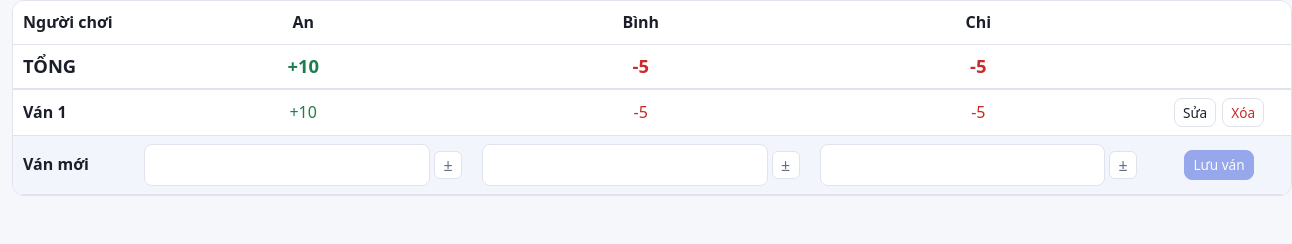
Test case: ScoreTable new round row › shows the error when saving fails and keeps what was typed
The width and height of the screenshot is (1292, 244).
Type "10" into the field named "Ván mới, điểm An" at [287, 165], box [144,144,430,186]
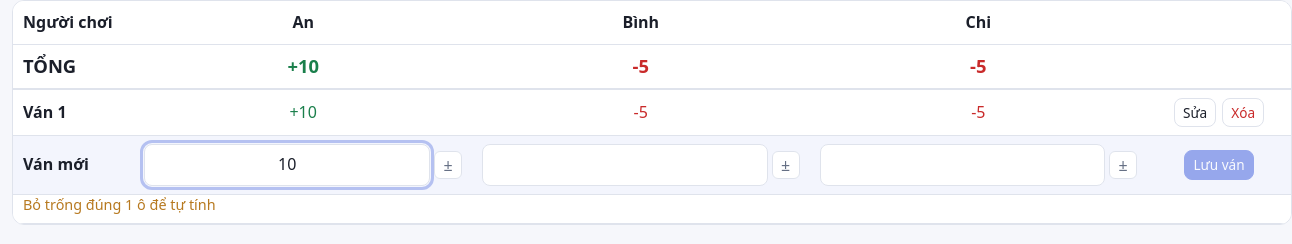
Type "-5" into the field named "Ván mới, điểm Bình" at [625, 165], box [482,144,768,186]
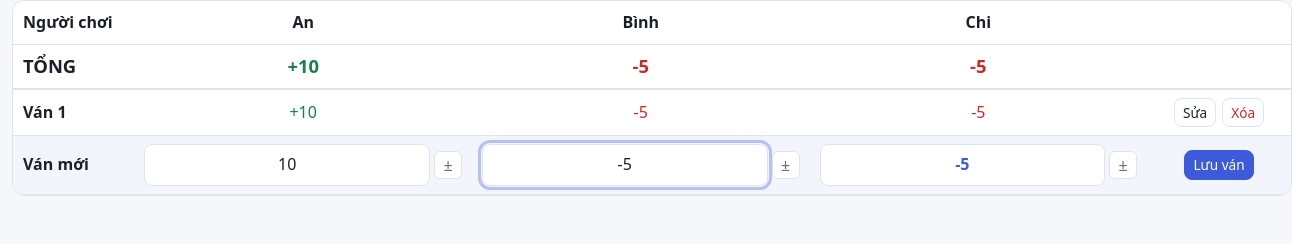
Click the button "Lưu ván" at [1219, 165], box [1184,150,1254,180]
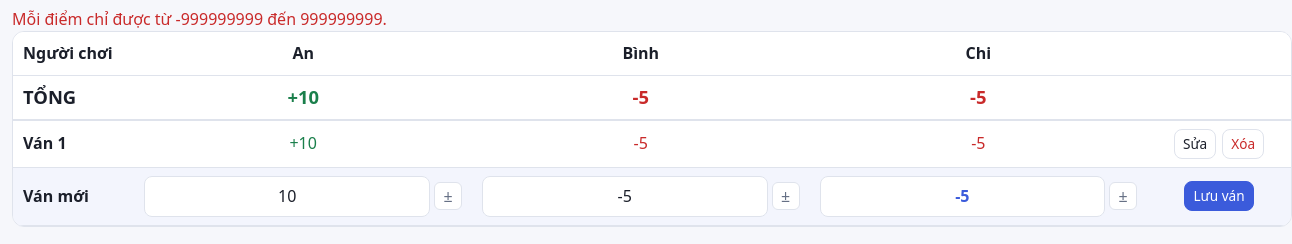
Expected: the message shows "Mỗi điểm chỉ được từ", [12,8,387,30]
